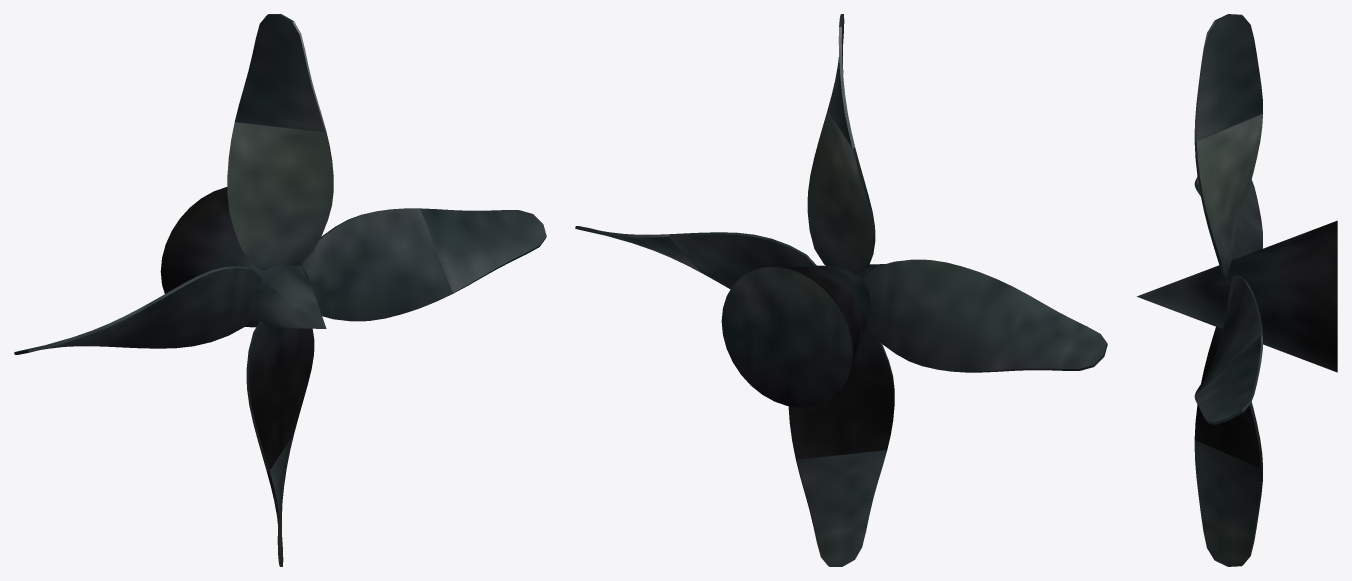
File: fan.glb
3 renders of one model, left to right at view 1: azimuth 30°, elevation 25°; view 2: azimuth 150°, elevation 25°; view 3: azimuth 270°, elevation 25°, orthographic.
Parts seen in each view (by area): view 1: Cone_17; view 2: Cone_17; view 3: Cone_17.
Part boxes in pixels (x1,y1,x2,y2): Cone_17: (14,14,546,566); Cone_17: (575,14,1107,566); Cone_17: (1137,14,1337,566).
Bounding box in the file's own units: 0.0493 × 0.0493 × 0.0163.
Materials: 1 (1 with a texture image).
